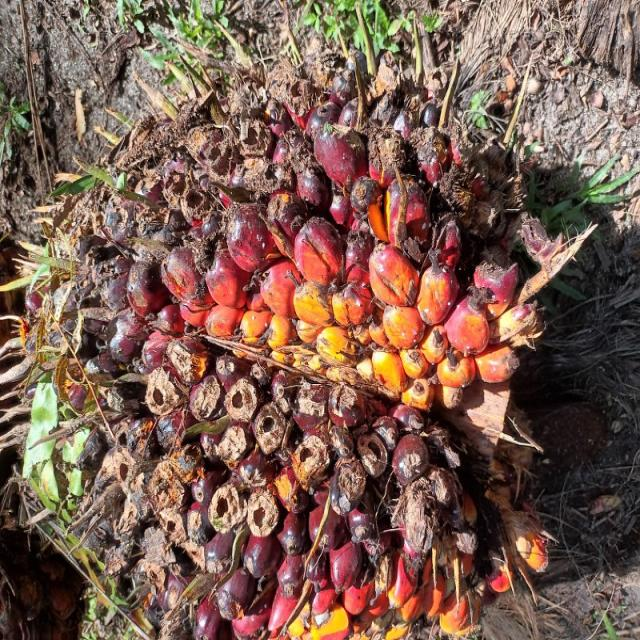fraksi 1: (97, 4, 565, 516)
